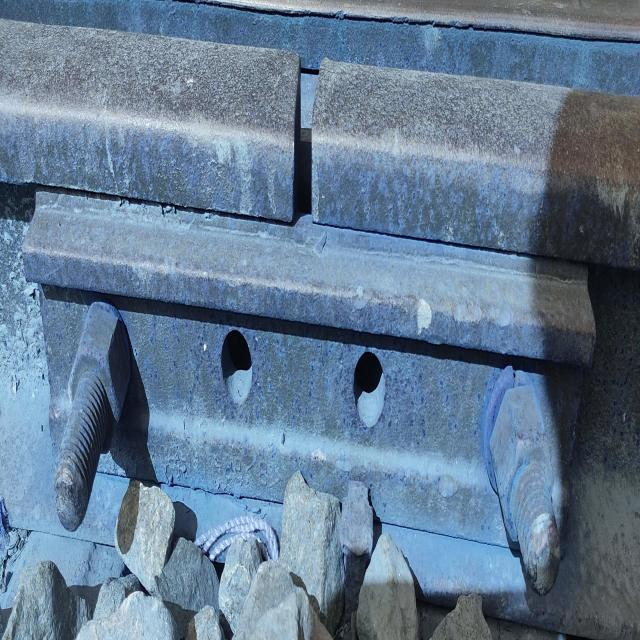Defective Joint: (0, 20, 640, 636)
